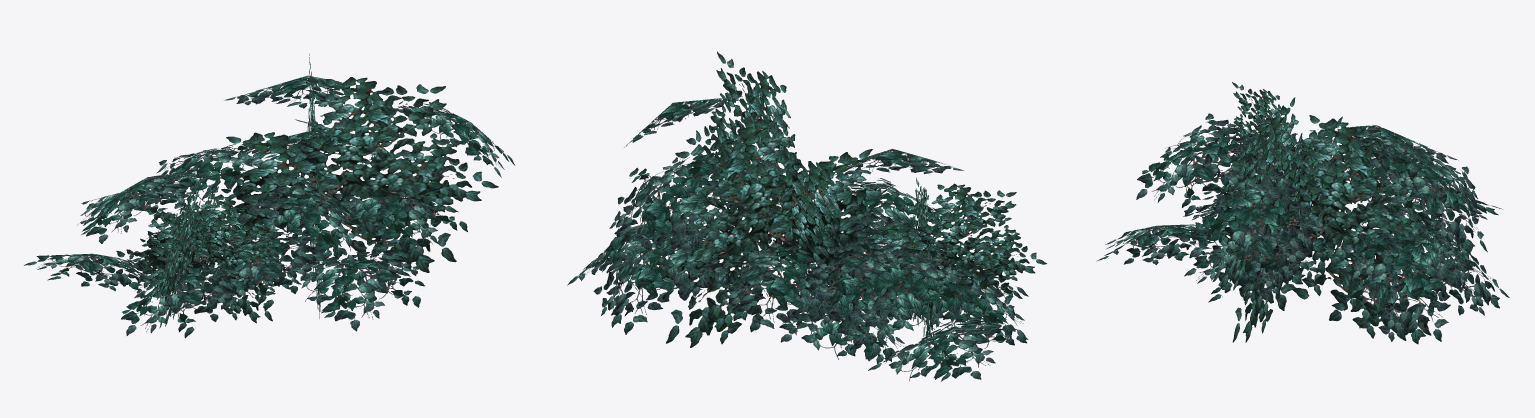
The model's file is shrb_dath_greybush_lg_l2.fbx.
3 views of the same model, side by side, from view 1: azimuth 30°, elevation 25°; view 2: azimuth 150°, elevation 25°; view 3: azimuth 270°, elevation 25° (orthographic). The views are drawn at different scales.
Visible parts, largest first — view 1: mesh_node; view 2: mesh_node; view 3: mesh_node.
Part boxes in pixels (bbox=[...]): mesh_node: bbox=[24, 53, 515, 338]; mesh_node: bbox=[567, 51, 1046, 381]; mesh_node: bbox=[1096, 82, 1509, 344].
Bounding box in the file's own units: 7.21 × 3.91 × 5.88.
